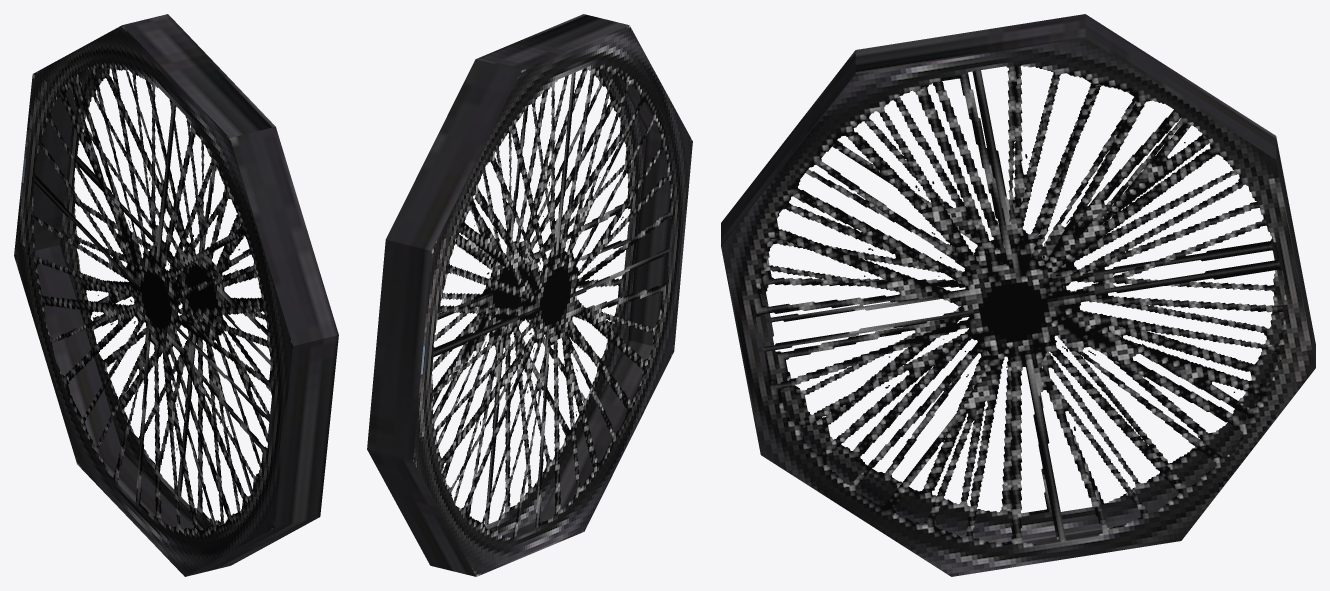
File: SM_WheelChair_Wheel_L.fbx
The picture shows the model from 3 angles, left to right: view 1: azimuth 30°, elevation 25°; view 2: azimuth 150°, elevation 25°; view 3: azimuth 270°, elevation 25°; orthographic projection. The views are drawn at different scales.
Visible parts, largest first — view 1: SM_Wheelchair_Wheel_L; view 2: SM_Wheelchair_Wheel_L; view 3: SM_Wheelchair_Wheel_L.
Boxes of the visible parts, left/top/right/bottom form: SM_Wheelchair_Wheel_L: left=14, top=14, right=338, bottom=576; SM_Wheelchair_Wheel_L: left=367, top=14, right=692, bottom=576; SM_Wheelchair_Wheel_L: left=721, top=14, right=1315, bottom=576.
Bounding box in the file's own units: 6.51 × 68.57 × 68.57.
